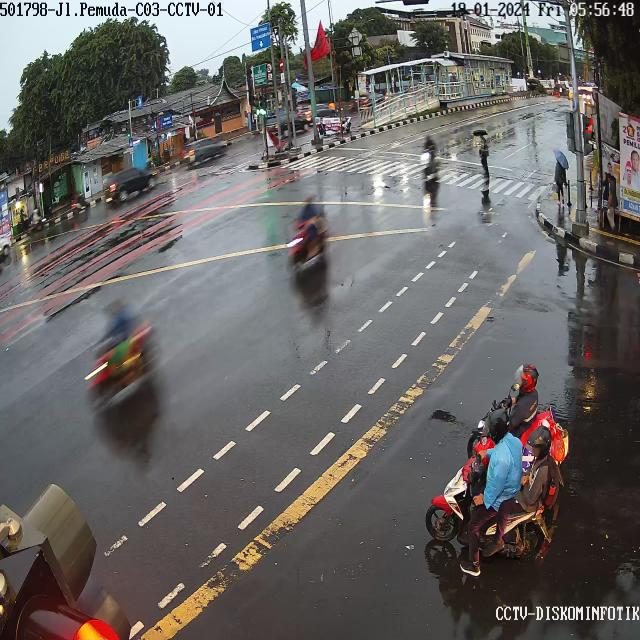Payung: (553, 147, 569, 172), (472, 128, 490, 140)
